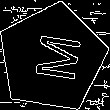M_W: (23, 31, 81, 84)
